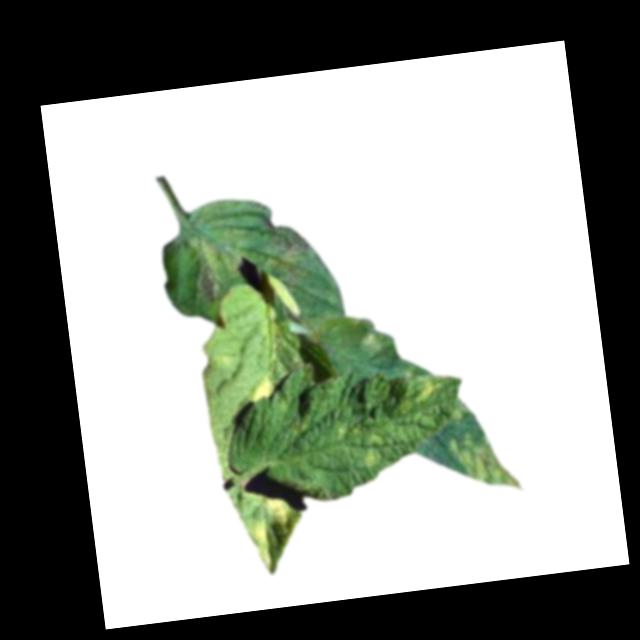Leaf_Mold: (449, 427, 525, 501), (187, 231, 244, 309), (247, 517, 273, 570), (246, 371, 276, 404), (412, 376, 442, 405), (267, 491, 293, 524), (360, 445, 388, 470)
